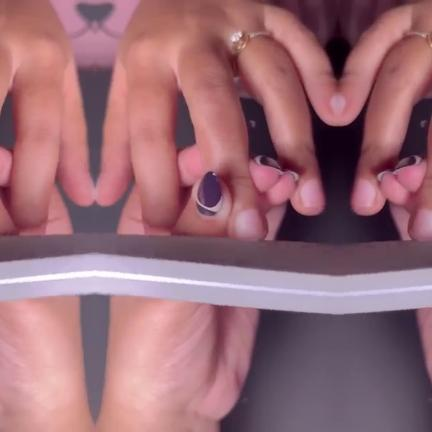Nail: (195, 171, 222, 216), (234, 208, 265, 241), (409, 208, 432, 241), (299, 180, 325, 207), (349, 180, 375, 207)
